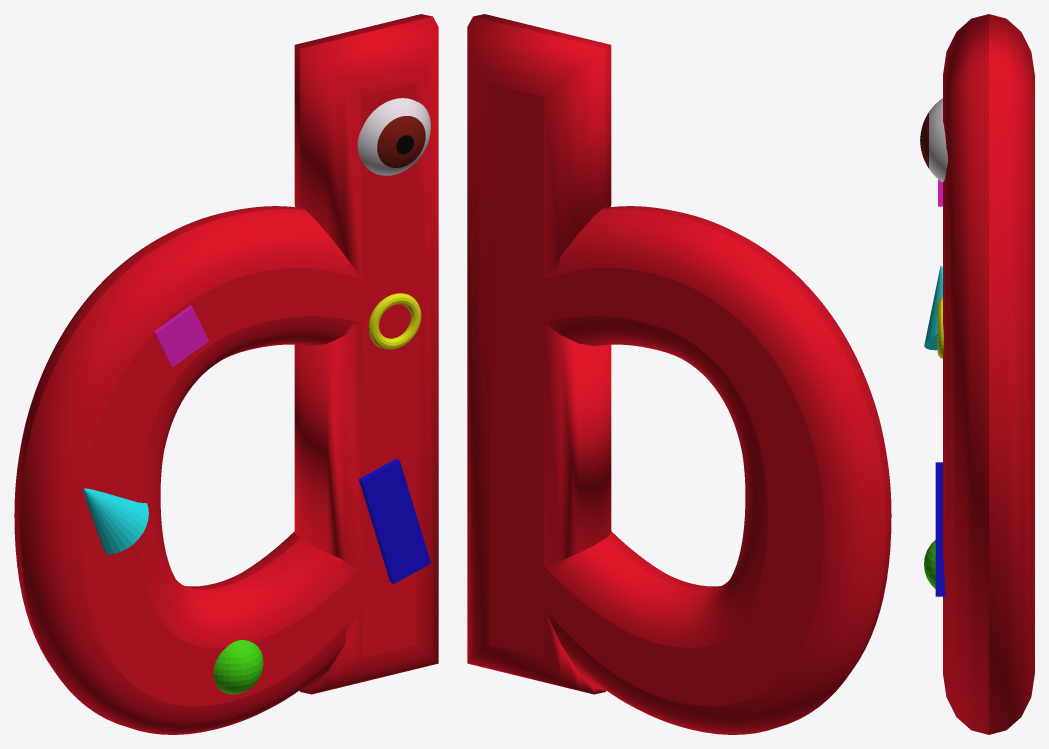
The model's file is d_red.fbx.
3 views of the same model, side by side, from view 1: azimuth 30°, elevation 25°; view 2: azimuth 150°, elevation 25°; view 3: azimuth 270°, elevation 25° (orthographic).
Visible parts, largest first — view 1: Text, Cube.001, Sphere, Cone, Sphere.001, Cube, Torus; view 2: Text; view 3: Text, Sphere, Cube.001, Cone, Sphere.001, Torus.
Part boxes in pixels (left/top/right/bottom): Text: left=14, top=14, right=438, bottom=734; Cube.001: left=358, top=458, right=430, bottom=584; Sphere: left=357, top=98, right=430, bottom=175; Cone: left=83, top=488, right=148, bottom=554; Sphere.001: left=213, top=640, right=263, bottom=694; Cube: left=154, top=305, right=208, bottom=366; Torus: left=368, top=293, right=421, bottom=349; Text: left=467, top=14, right=891, bottom=734; Text: left=943, top=14, right=1034, bottom=734; Sphere: left=920, top=98, right=947, bottom=182; Cube.001: left=935, top=462, right=945, bottom=596; Cone: left=924, top=265, right=942, bottom=350; Sphere.001: left=924, top=540, right=935, bottom=588; Torus: left=937, top=297, right=943, bottom=358.
Bounding box in the file's own units: 104 × 158 × 24.65.
